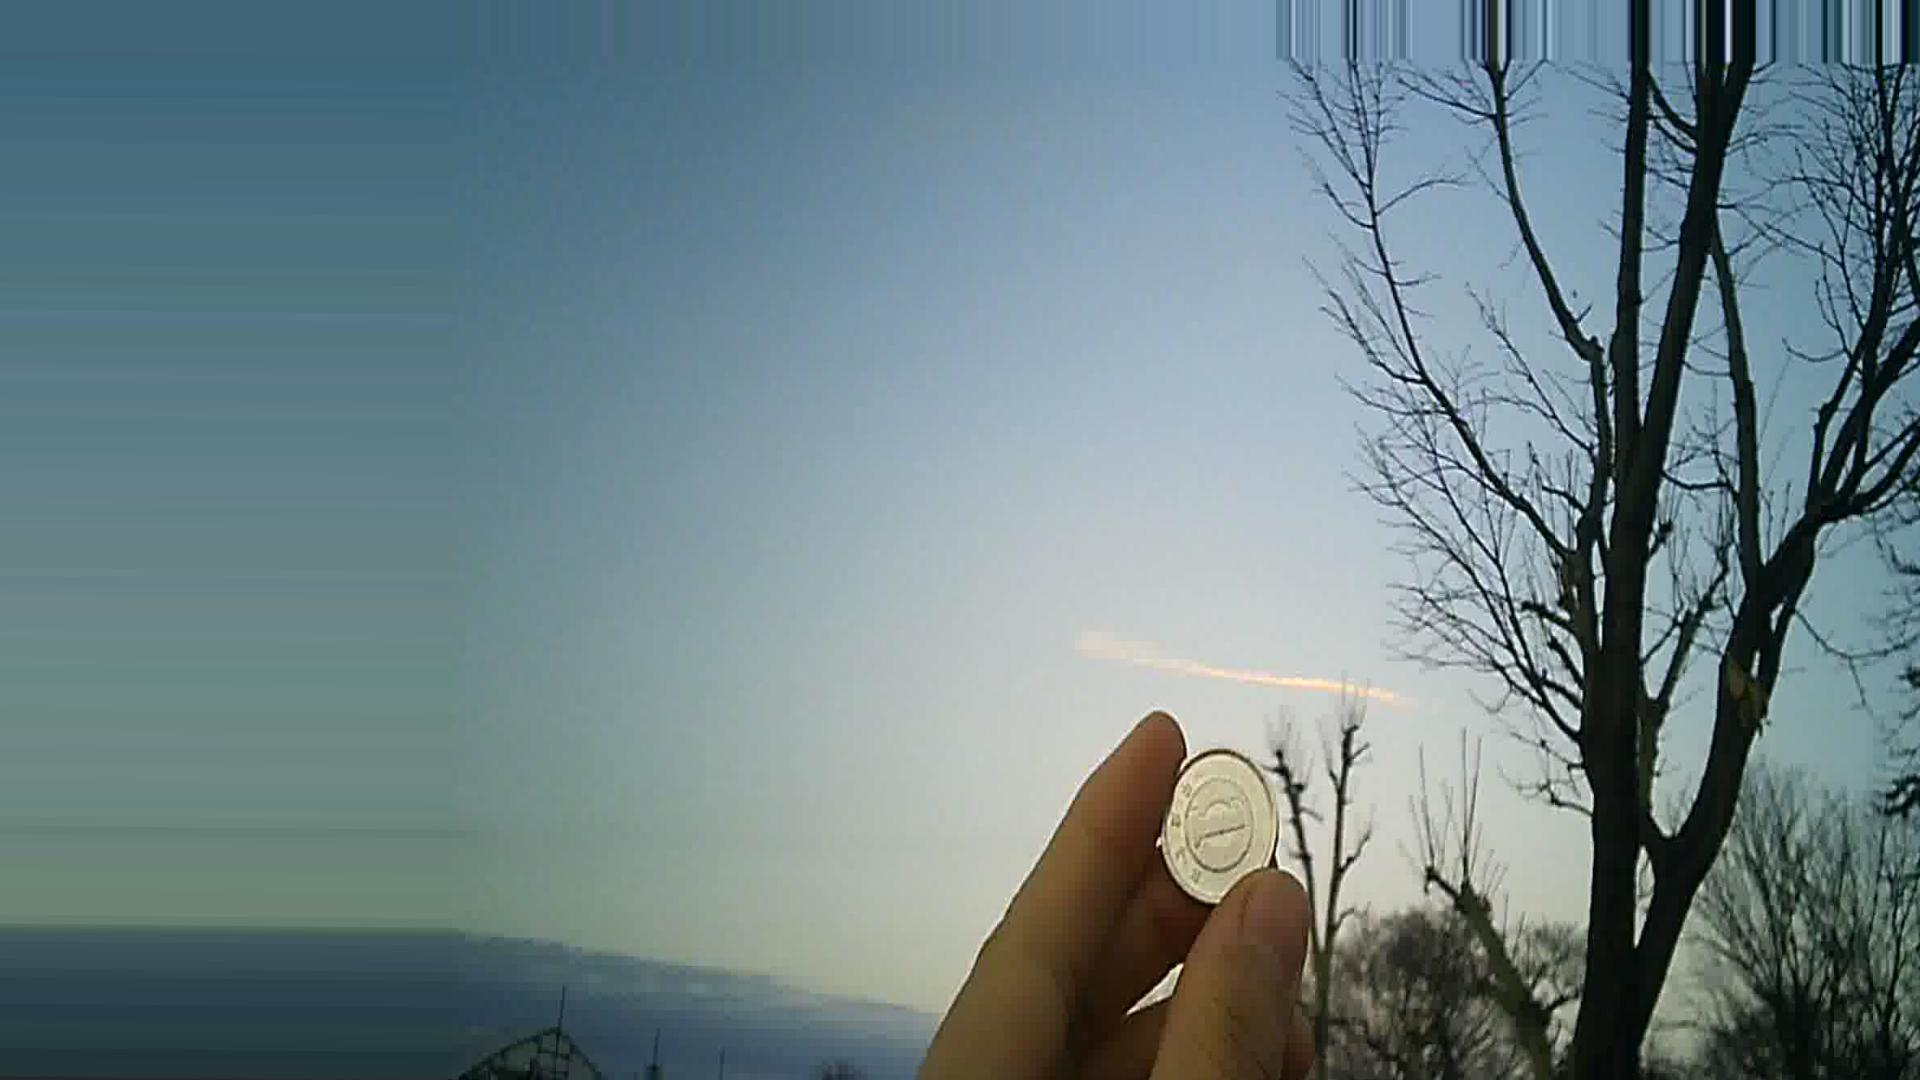1 Yen: (1146, 744, 1296, 913)
